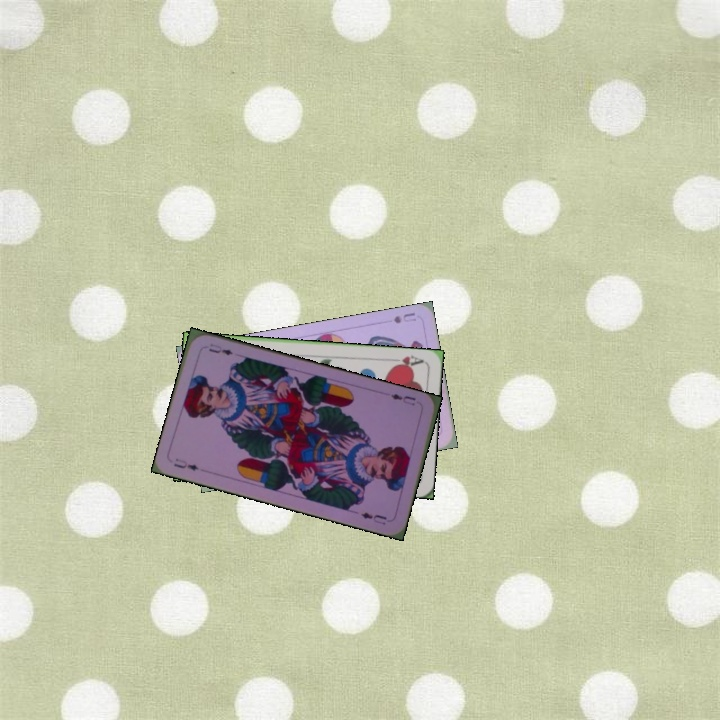EU: (386, 389, 418, 408), (170, 454, 201, 473)
HA: (386, 351, 426, 371)
SU: (390, 309, 419, 326)
